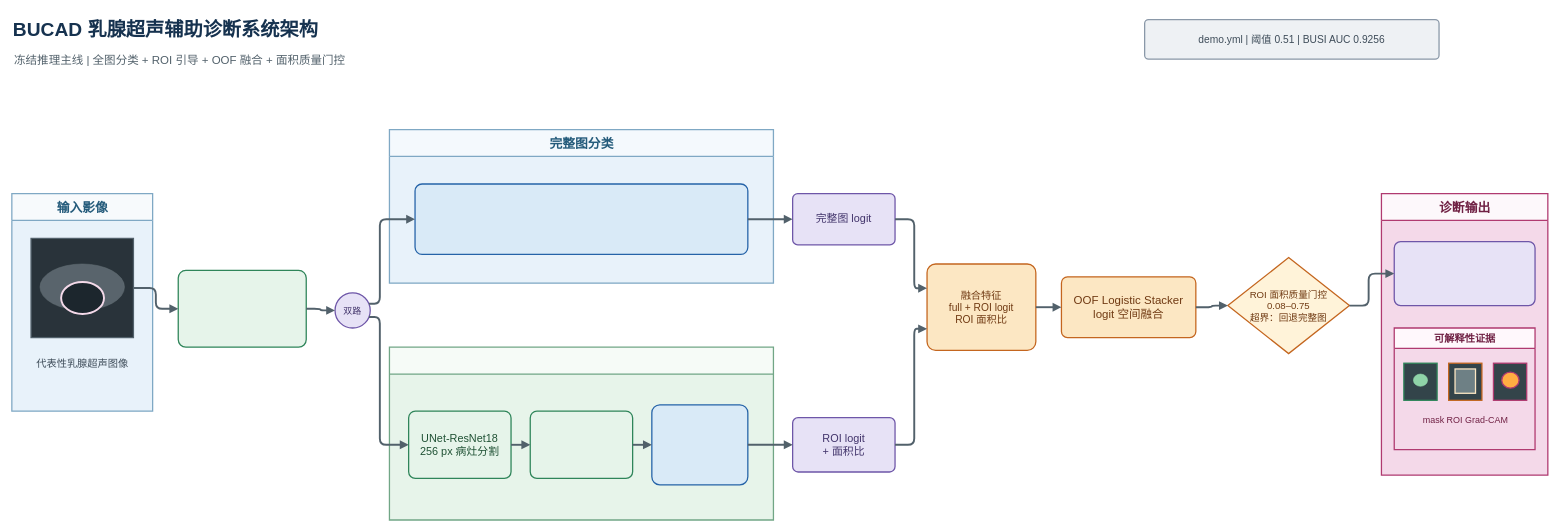
Image size: 1559x531. Some labels were removed from this diagram. The shapes that lost their labels are listed below. From the top down, each one's box as (x1, y1, x2, y2) in pixels, then its label:
(414, 183, 748, 255): 双模型五折集成 ConvNeXt-Tiny：Crop-sweep TTA | EfficientNetV2-S：identity
(1393, 241, 1535, 306): 恶性概率与判别 阈值 0.51 · 边界 ±0.08
(177, 269, 307, 348): 标准化与模型变换 3 通道 · CLAHE · 224 px
(388, 346, 774, 520): ROI 引导分支
(529, 410, 633, 479): mask 0.40 + LCC ROI margin 0.35
(651, 404, 748, 485): ROI 双模型推理 ConvNeXt + EfficientNet
